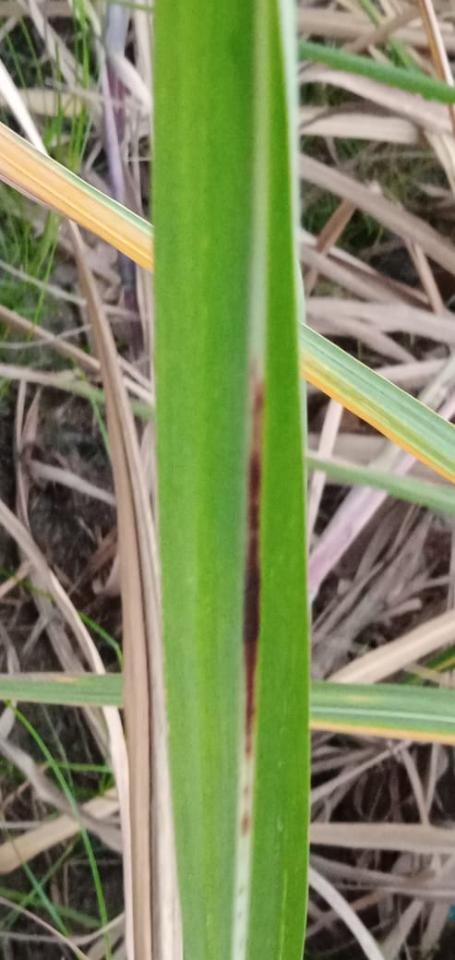RedRot: (243, 362, 264, 767), (241, 814, 249, 839), (243, 783, 251, 799)
Yellow: (0, 130, 154, 274), (301, 351, 454, 485), (310, 717, 454, 745)
